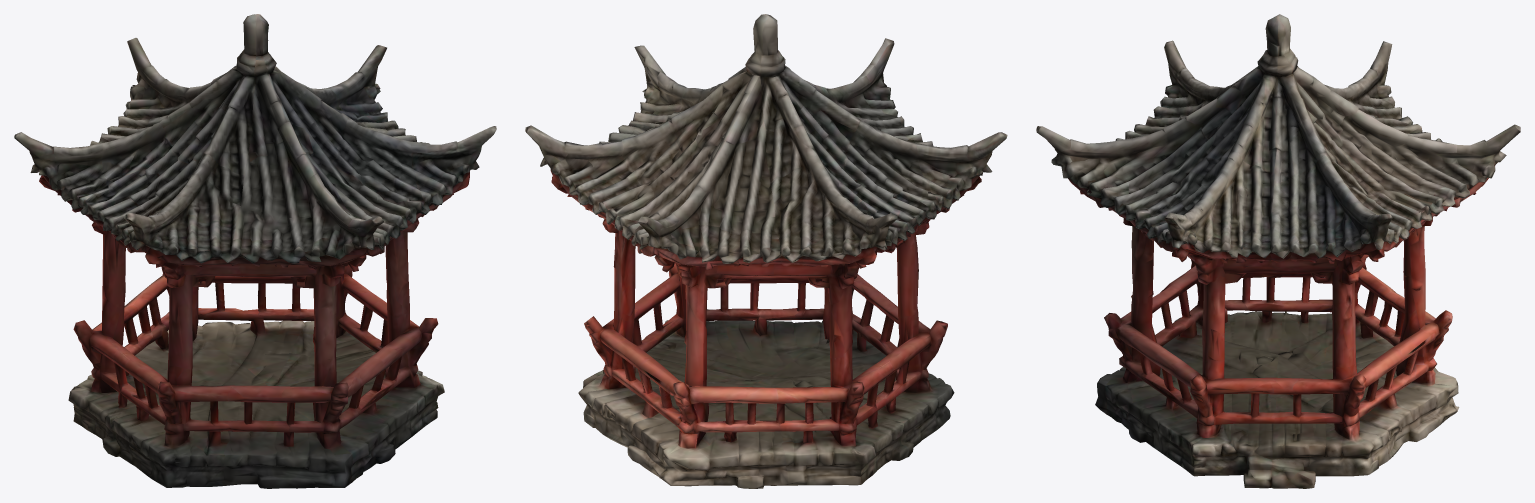
Rendered from pavilion-low.glb.
3 views of the same model, side by side, from view 1: azimuth 30°, elevation 25°; view 2: azimuth 150°, elevation 25°; view 3: azimuth 270°, elevation 25° (orthographic). The views are drawn at different scales.
Bounding box in the file's own units: 0.8645 × 0.8994 × 0.998.
Materials: 1 (1 with a texture image).
